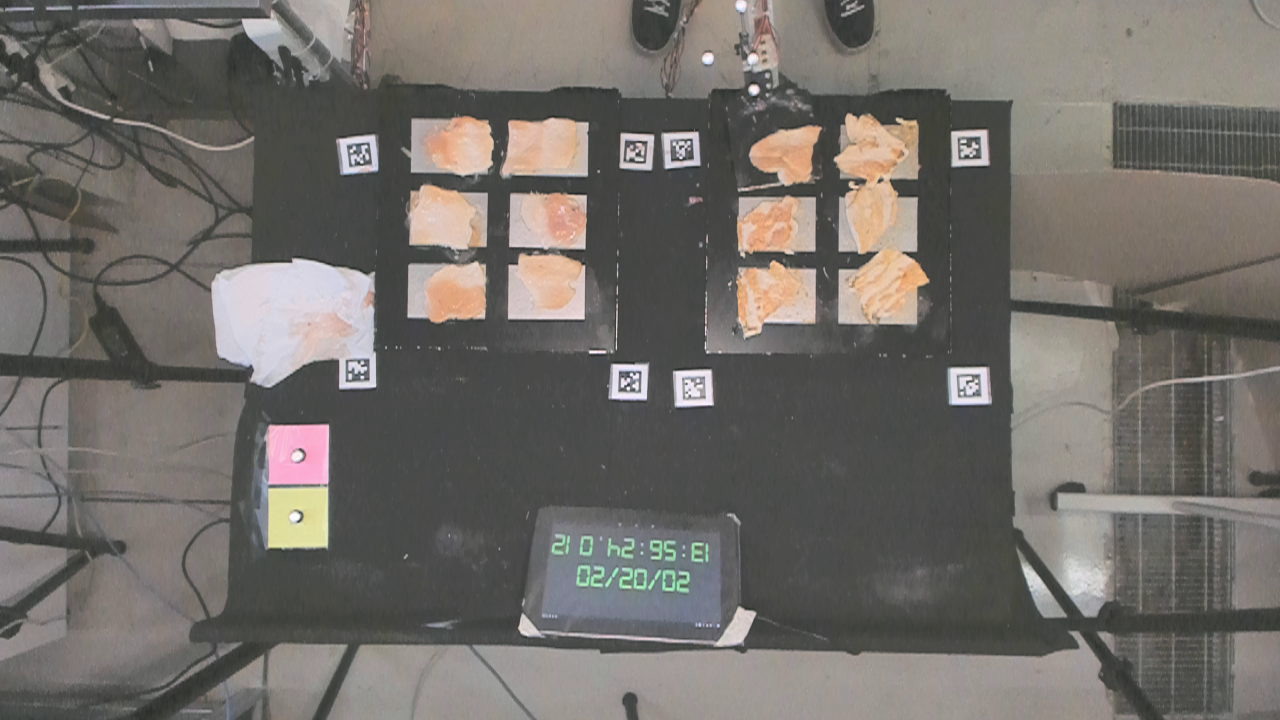chicken: (846, 248, 927, 321), (733, 263, 803, 337), (404, 185, 483, 250), (505, 115, 584, 179), (838, 113, 909, 180), (750, 124, 829, 184), (511, 251, 585, 308), (516, 188, 588, 245), (846, 181, 903, 250), (737, 195, 803, 254), (424, 117, 494, 172), (429, 261, 489, 322)
marker: (268, 425, 332, 486)
